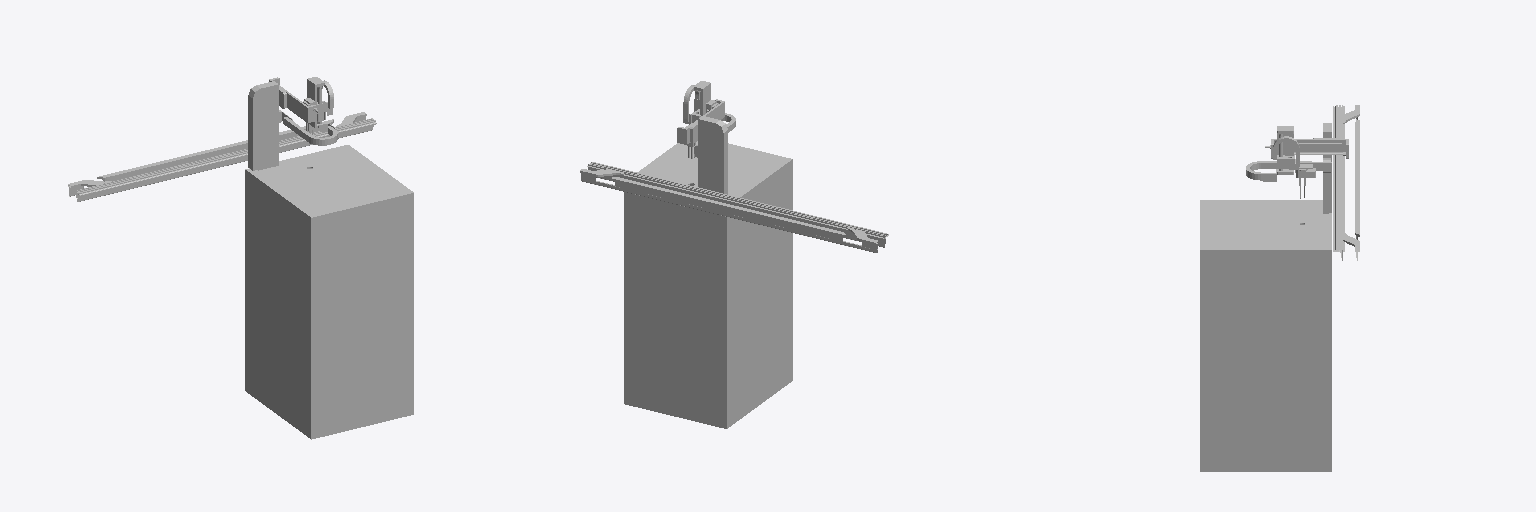
File: Bulk Output.obj
3 renders of one model, left to right at view 1: azimuth 30°, elevation 25°; view 2: azimuth 150°, elevation 25°; view 3: azimuth 270°, elevation 25°, orthographic.
Parts seen in each view (by area): view 1: object2, object8, object1, object3, object5; view 2: object2, object8, object3, object1; view 3: object2, object1, object8, object3, object5.
Part boxes in pixels (left/top/right/bottom): object2: left=245, top=145, right=413, bottom=439; object8: left=68, top=112, right=376, bottom=201; object1: left=262, top=151, right=397, bottom=210; object3: left=248, top=77, right=325, bottom=170; object5: left=283, top=80, right=337, bottom=145; object2: left=624, top=141, right=792, bottom=428; object8: left=580, top=162, right=888, bottom=252; object3: left=677, top=81, right=727, bottom=194; object1: left=648, top=142, right=775, bottom=194; object2: left=1200, top=200, right=1331, bottom=471; object1: left=1212, top=205, right=1320, bottom=244; object8: left=1333, top=105, right=1359, bottom=260; object3: left=1271, top=123, right=1348, bottom=213; object5: left=1246, top=136, right=1315, bottom=180.
Size of the model in its own units: 52.95 by 54.05 by 24.88.